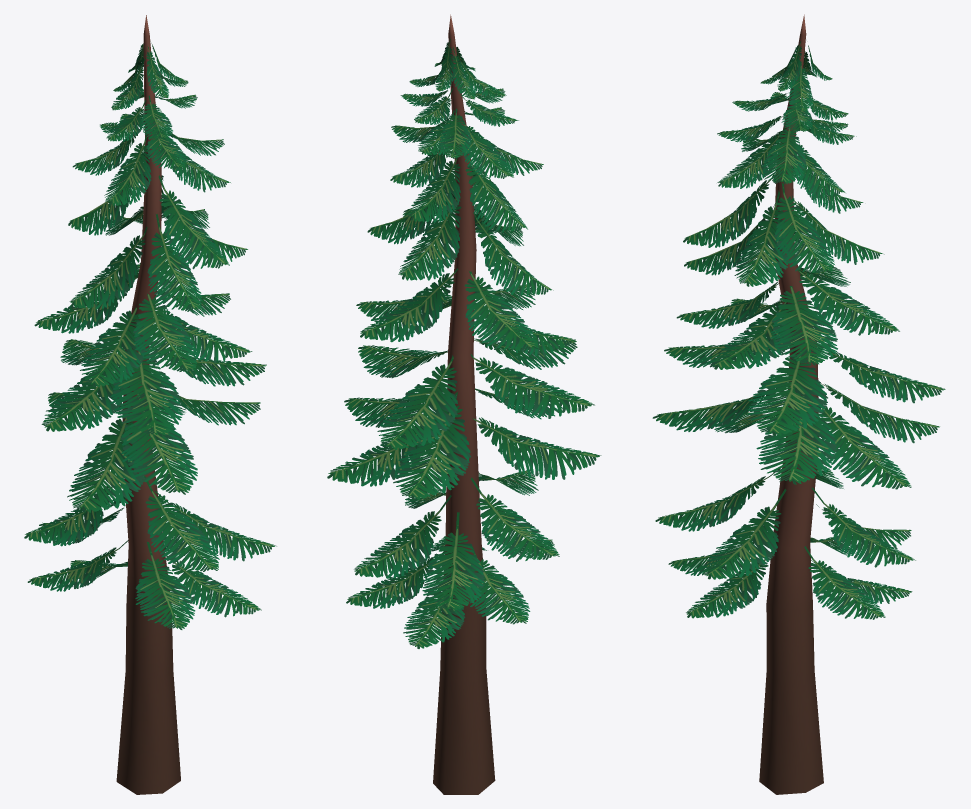
File: Pine_Tree_2F.fbx
The picture shows the model from 3 angles, left to right: view 1: azimuth 30°, elevation 25°; view 2: azimuth 150°, elevation 25°; view 3: azimuth 270°, elevation 25°; orthographic projection.
Parts seen in each view (by area): view 1: Pine_Tree_2F; view 2: Pine_Tree_2F; view 3: Pine_Tree_2F.
Boxes of the visible parts, x1=… form: Pine_Tree_2F: x1=24, y1=15, x2=276, y2=794; Pine_Tree_2F: x1=327, y1=14, x2=601, y2=794; Pine_Tree_2F: x1=652, y1=14, x2=945, y2=794.
Size of the model in its own units: 281 by 818 by 303.
